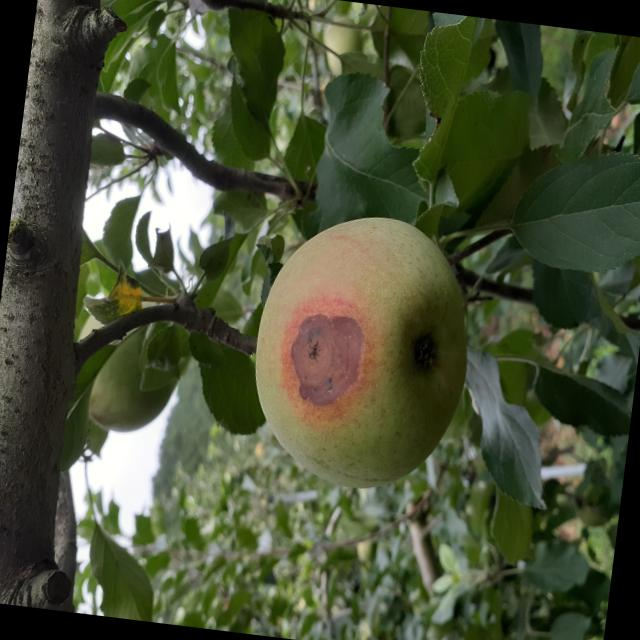rotten: (241, 202, 488, 506)
